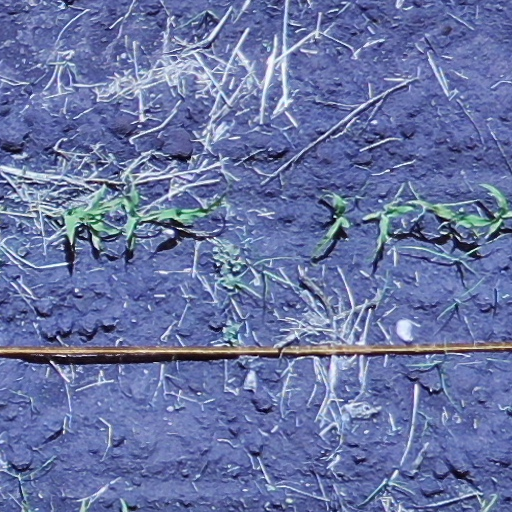planta: (62, 185, 121, 250), (142, 197, 222, 226), (415, 200, 496, 227), (315, 192, 350, 252), (364, 205, 414, 247), (478, 183, 511, 238), (122, 189, 141, 245)
